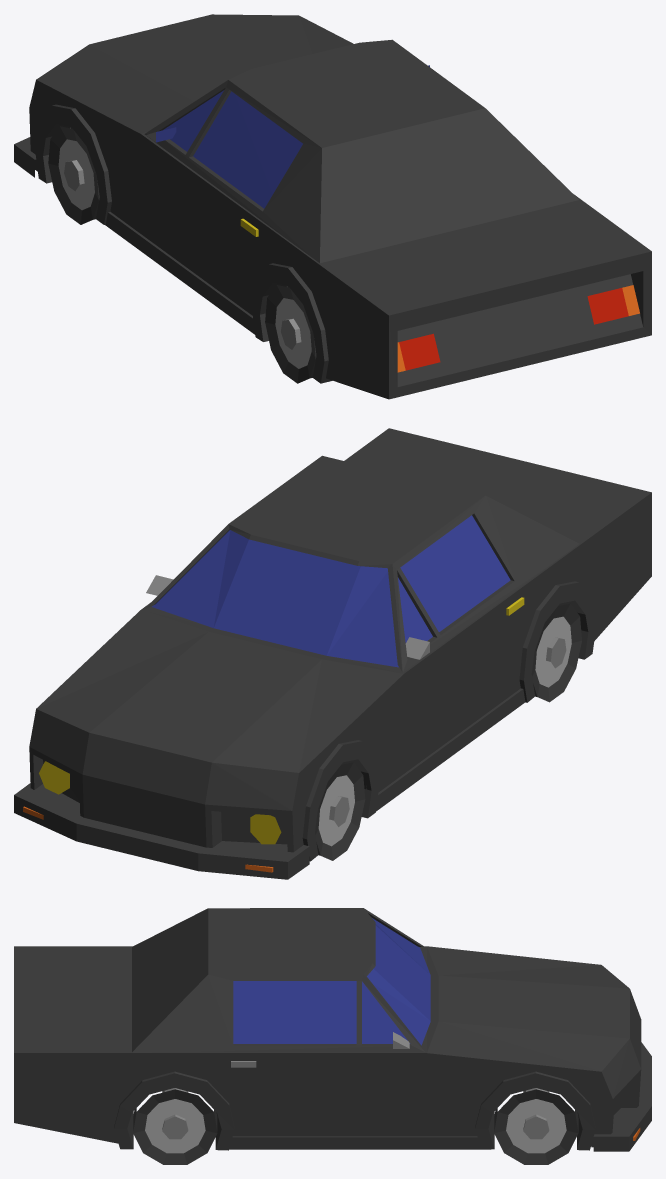
The model's file is sports_car2.fbx.
The picture shows the model from 3 angles, top to bottom: view 1: azimuth 30°, elevation 25°; view 2: azimuth 150°, elevation 25°; view 3: azimuth 270°, elevation 25°; orthographic projection. The views are drawn at different scales.
Visible parts, largest first — view 1: New_Game_Object; view 2: New_Game_Object; view 3: New_Game_Object.
Boxes of the visible parts, box(x1,y1,x2,y2) form: New_Game_Object: box(14, 14, 651, 399); New_Game_Object: box(14, 428, 651, 879); New_Game_Object: box(14, 908, 651, 1164).
Bounding box in the file's own units: 2.03 × 1.44 × 4.92.
